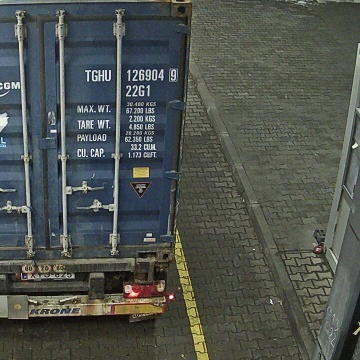serial_id: (85, 69, 177, 81)
